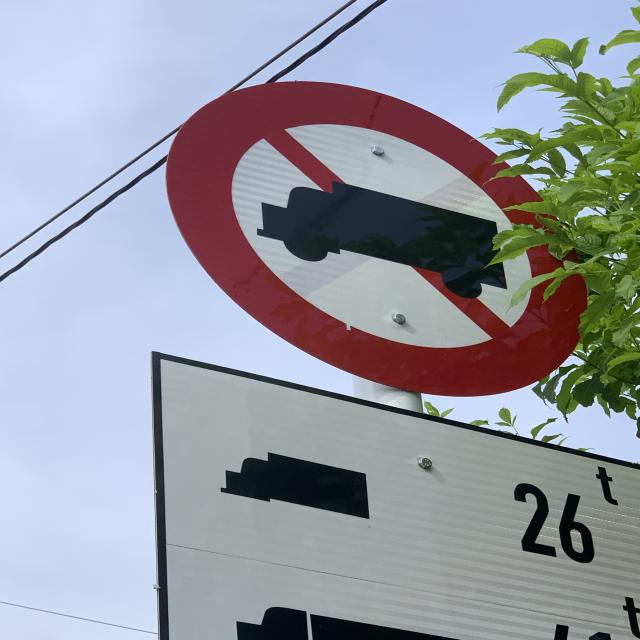Cam_Xe_Tai: (163, 76, 588, 400)
